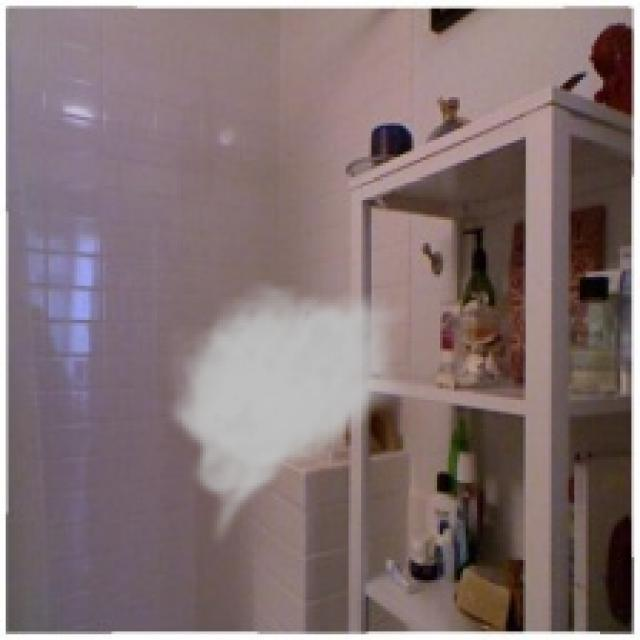Smoke: (162, 280, 412, 549)
